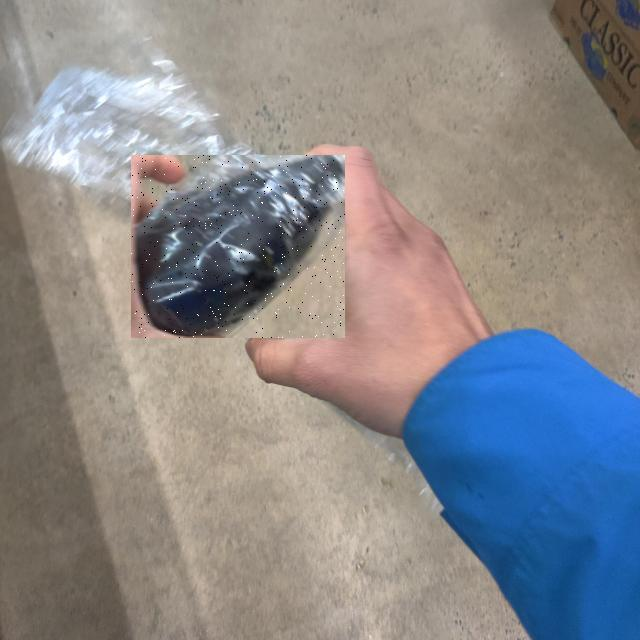Egg Plant: (131, 155, 345, 338)
